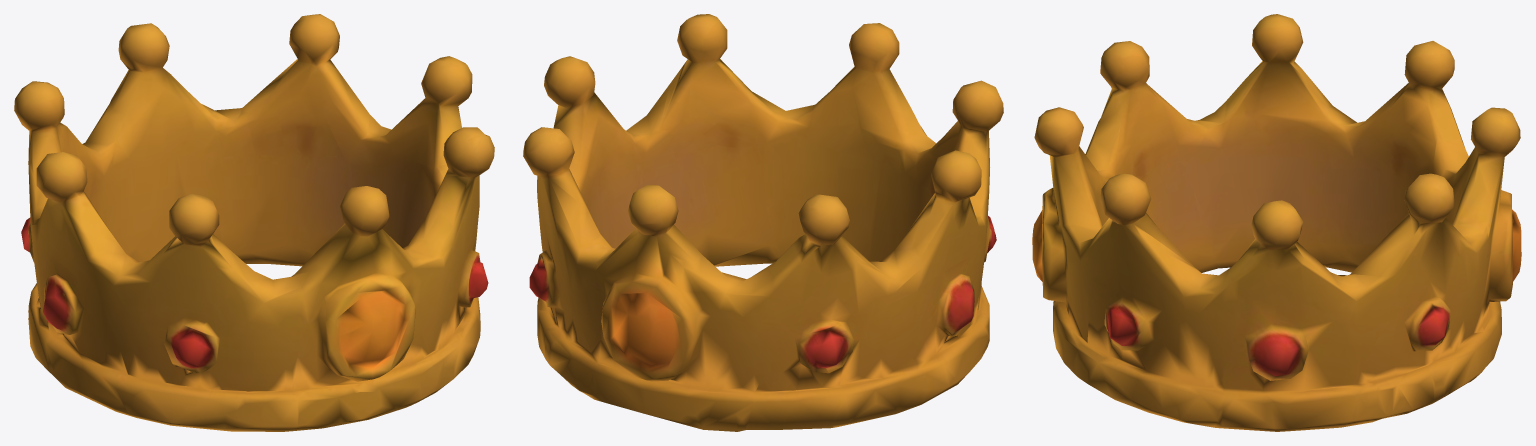
Rendered from hat_crownGold-BE_aSMJD.glb.
3 views of the same model, side by side, from view 1: azimuth 30°, elevation 25°; view 2: azimuth 150°, elevation 25°; view 3: azimuth 270°, elevation 25° (orthographic).
Visible parts, largest first — view 1: tripo_node_84fd9f14-fb0b-44d8-aed2-cba0cea6a44c; view 2: tripo_node_84fd9f14-fb0b-44d8-aed2-cba0cea6a44c; view 3: tripo_node_84fd9f14-fb0b-44d8-aed2-cba0cea6a44c.
Boxes of the visible parts, x1=… form: tripo_node_84fd9f14-fb0b-44d8-aed2-cba0cea6a44c: x1=14, y1=14, x2=494, y2=431; tripo_node_84fd9f14-fb0b-44d8-aed2-cba0cea6a44c: x1=523, y1=14, x2=1003, y2=431; tripo_node_84fd9f14-fb0b-44d8-aed2-cba0cea6a44c: x1=1032, y1=14, x2=1521, y2=431.
Bounding box in the file's own units: 1 × 0.5185 × 0.9968.
Materials: 1 (1 with a texture image).
